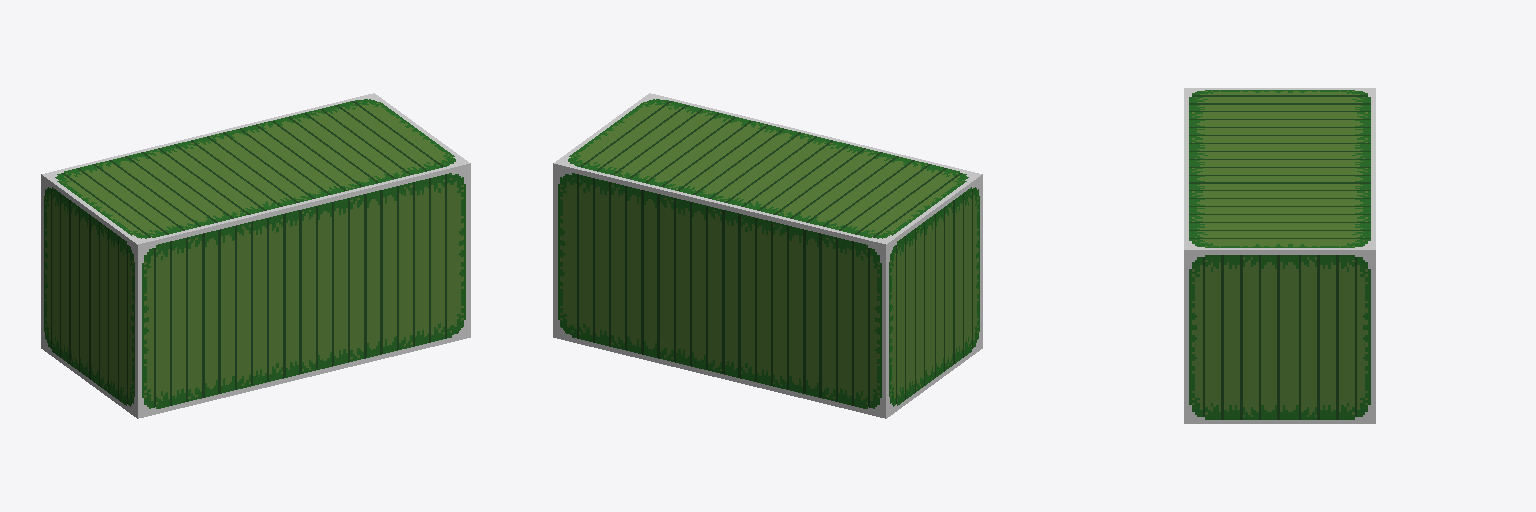
3 renders of one model, left to right at view 1: azimuth 30°, elevation 25°; view 2: azimuth 150°, elevation 25°; view 3: azimuth 270°, elevation 25°, orthographic.
Visible parts, largest first — view 1: GameObject_house_textured_green_rectangular.002; view 2: GameObject_house_textured_green_rectangular.002; view 3: GameObject_house_textured_green_rectangular.002.
Boxes of the visible parts, x1,y1,x2,y2 form: GameObject_house_textured_green_rectangular.002: [41, 93, 470, 418]; GameObject_house_textured_green_rectangular.002: [553, 93, 982, 418]; GameObject_house_textured_green_rectangular.002: [1184, 88, 1375, 423].
Bounding box in the file's own units: 14.4 × 7.2 × 7.2.
Materials: 1 (1 with a texture image).